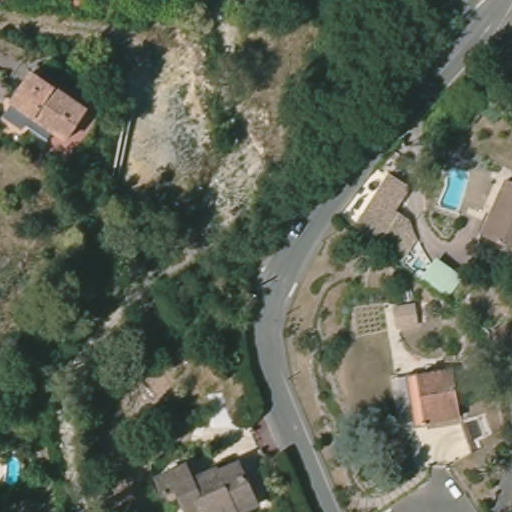pool: (437, 161, 473, 214), (2, 454, 25, 484)
